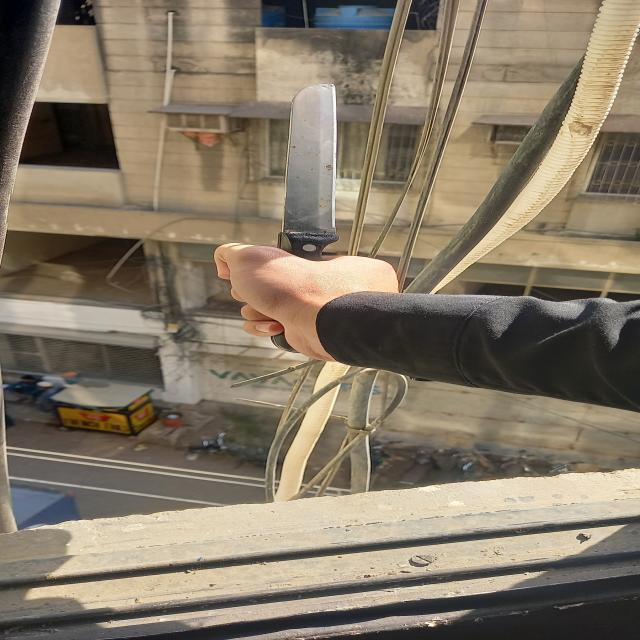Knife: (258, 80, 351, 359)
